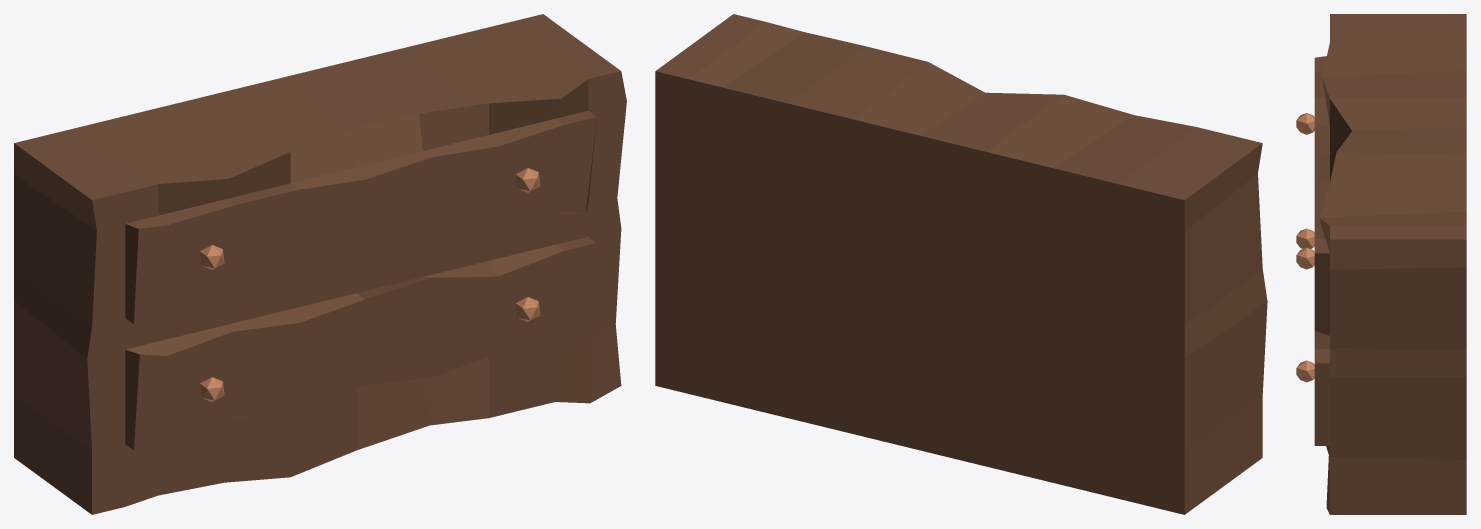
The model's file is dresser_1.fbx.
3 renders of one model, left to right at view 1: azimuth 30°, elevation 25°; view 2: azimuth 150°, elevation 25°; view 3: azimuth 270°, elevation 25°, orthographic. The views are drawn at different scales.
Parts seen in each view (by area): view 1: Dresser; view 2: Dresser; view 3: Dresser, Handle.006, Handle.005, Handle.004, Handle.003.
Part boxes in pixels (<box>): Dresser: <box>14,14,626,514</box>; Dresser: <box>655,14,1267,514</box>; Dresser: <box>1314,14,1466,514</box>; Handle.006: <box>1296,360,1314,382</box>; Handle.005: <box>1296,247,1314,269</box>; Handle.004: <box>1296,113,1314,134</box>; Handle.003: <box>1296,228,1314,248</box>.
Bounding box in the file's own units: 359 × 209 × 112.
